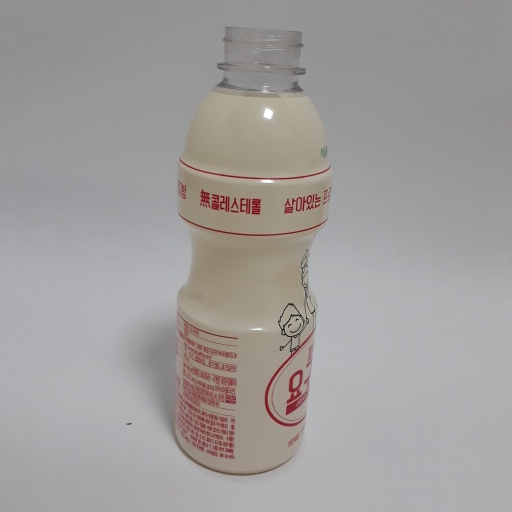Plastic_0: (170, 25, 336, 475)
